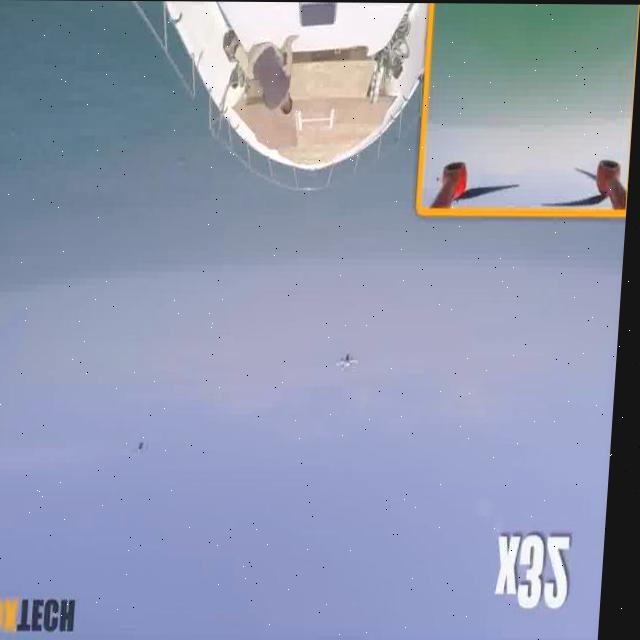drone: (334, 344, 370, 378), (135, 430, 164, 460)
